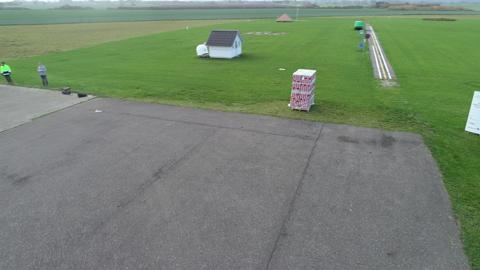RockwoolPallet: (290, 69, 317, 112)
